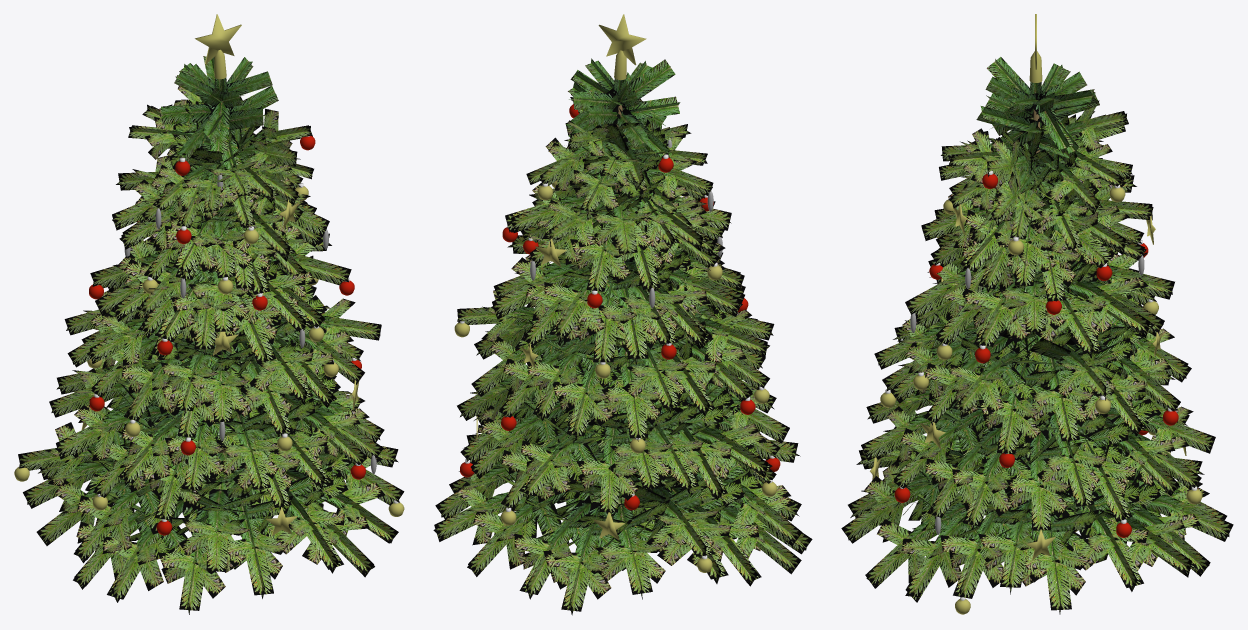
The model's file is ChristmasTree.glb.
3 renders of one model, left to right at view 1: azimuth 30°, elevation 25°; view 2: azimuth 150°, elevation 25°; view 3: azimuth 270°, elevation 25°, orthographic. The views are drawn at different scales.
Visible parts, largest first — view 1: leaves_Plane.085, star.001_Circle.001; view 2: leaves_Plane.085, star.001_Circle.001; view 3: leaves_Plane.085.
Boxes of the visible parts, <box> form: leaves_Plane.085: <box>18,56,404,614</box>; star.001_Circle.001: <box>195,14,241,79</box>; leaves_Plane.085: <box>433,58,812,615</box>; star.001_Circle.001: <box>598,14,646,80</box>; leaves_Plane.085: <box>841,57,1233,614</box>.
Bounding box in the file's own units: 1.31 × 2.03 × 1.32.
6 materials, 1 textured.
